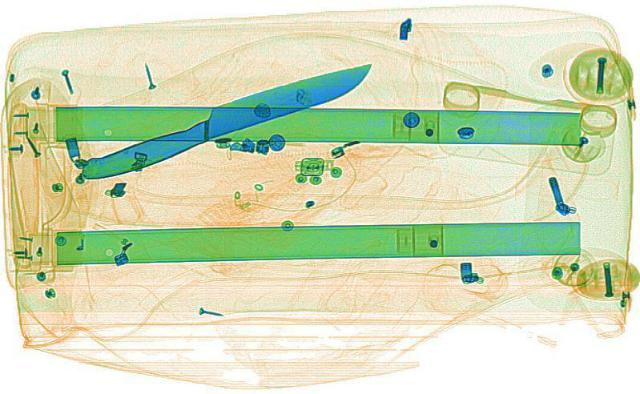Knife: (66, 54, 388, 185)
